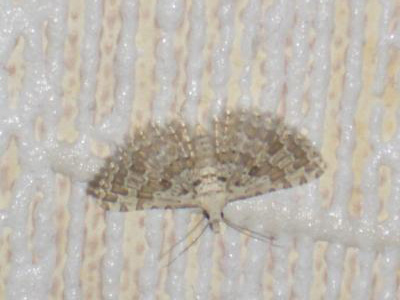Alucitidae: (79, 98, 325, 262)
moth: (81, 100, 327, 264)
